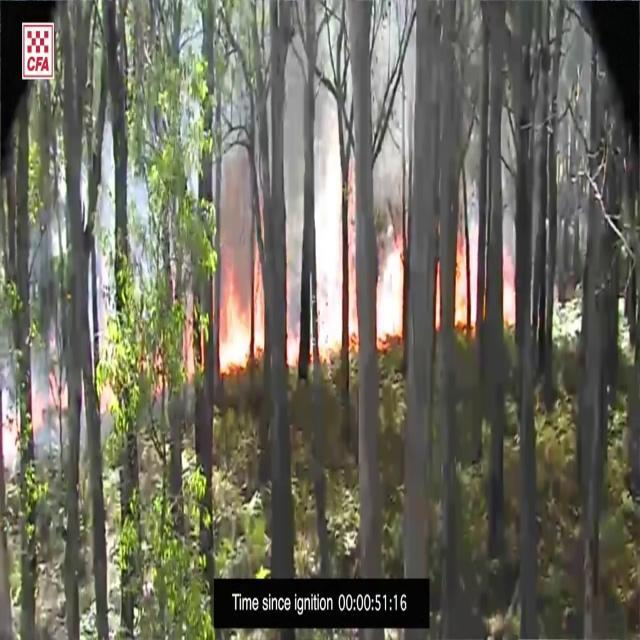Fire: (212, 226, 268, 374)
Smoke: (221, 21, 348, 282)
